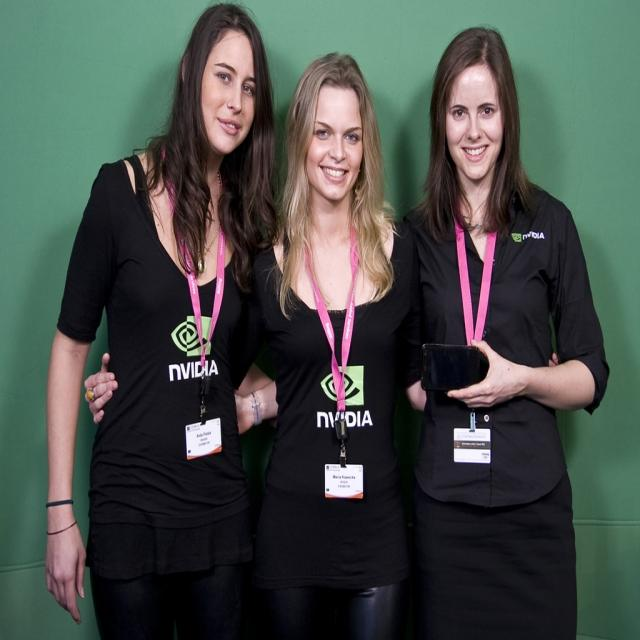nvidia: (318, 365, 365, 408), (170, 316, 216, 359)
